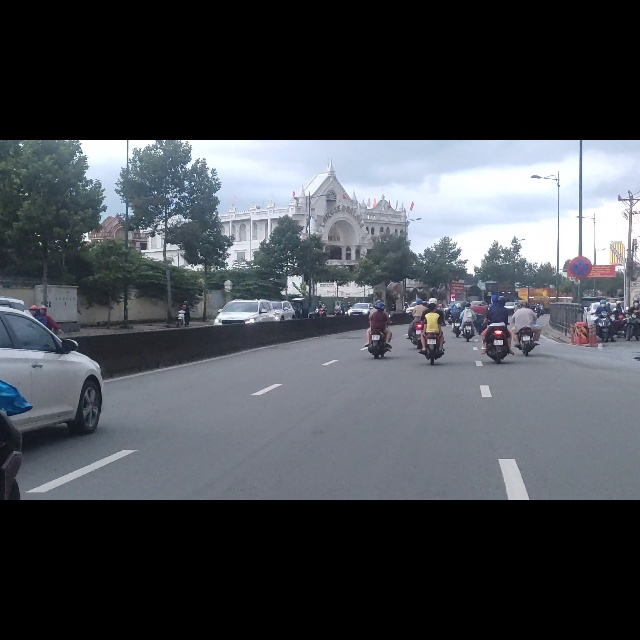bien_cam: (570, 206, 592, 247)
